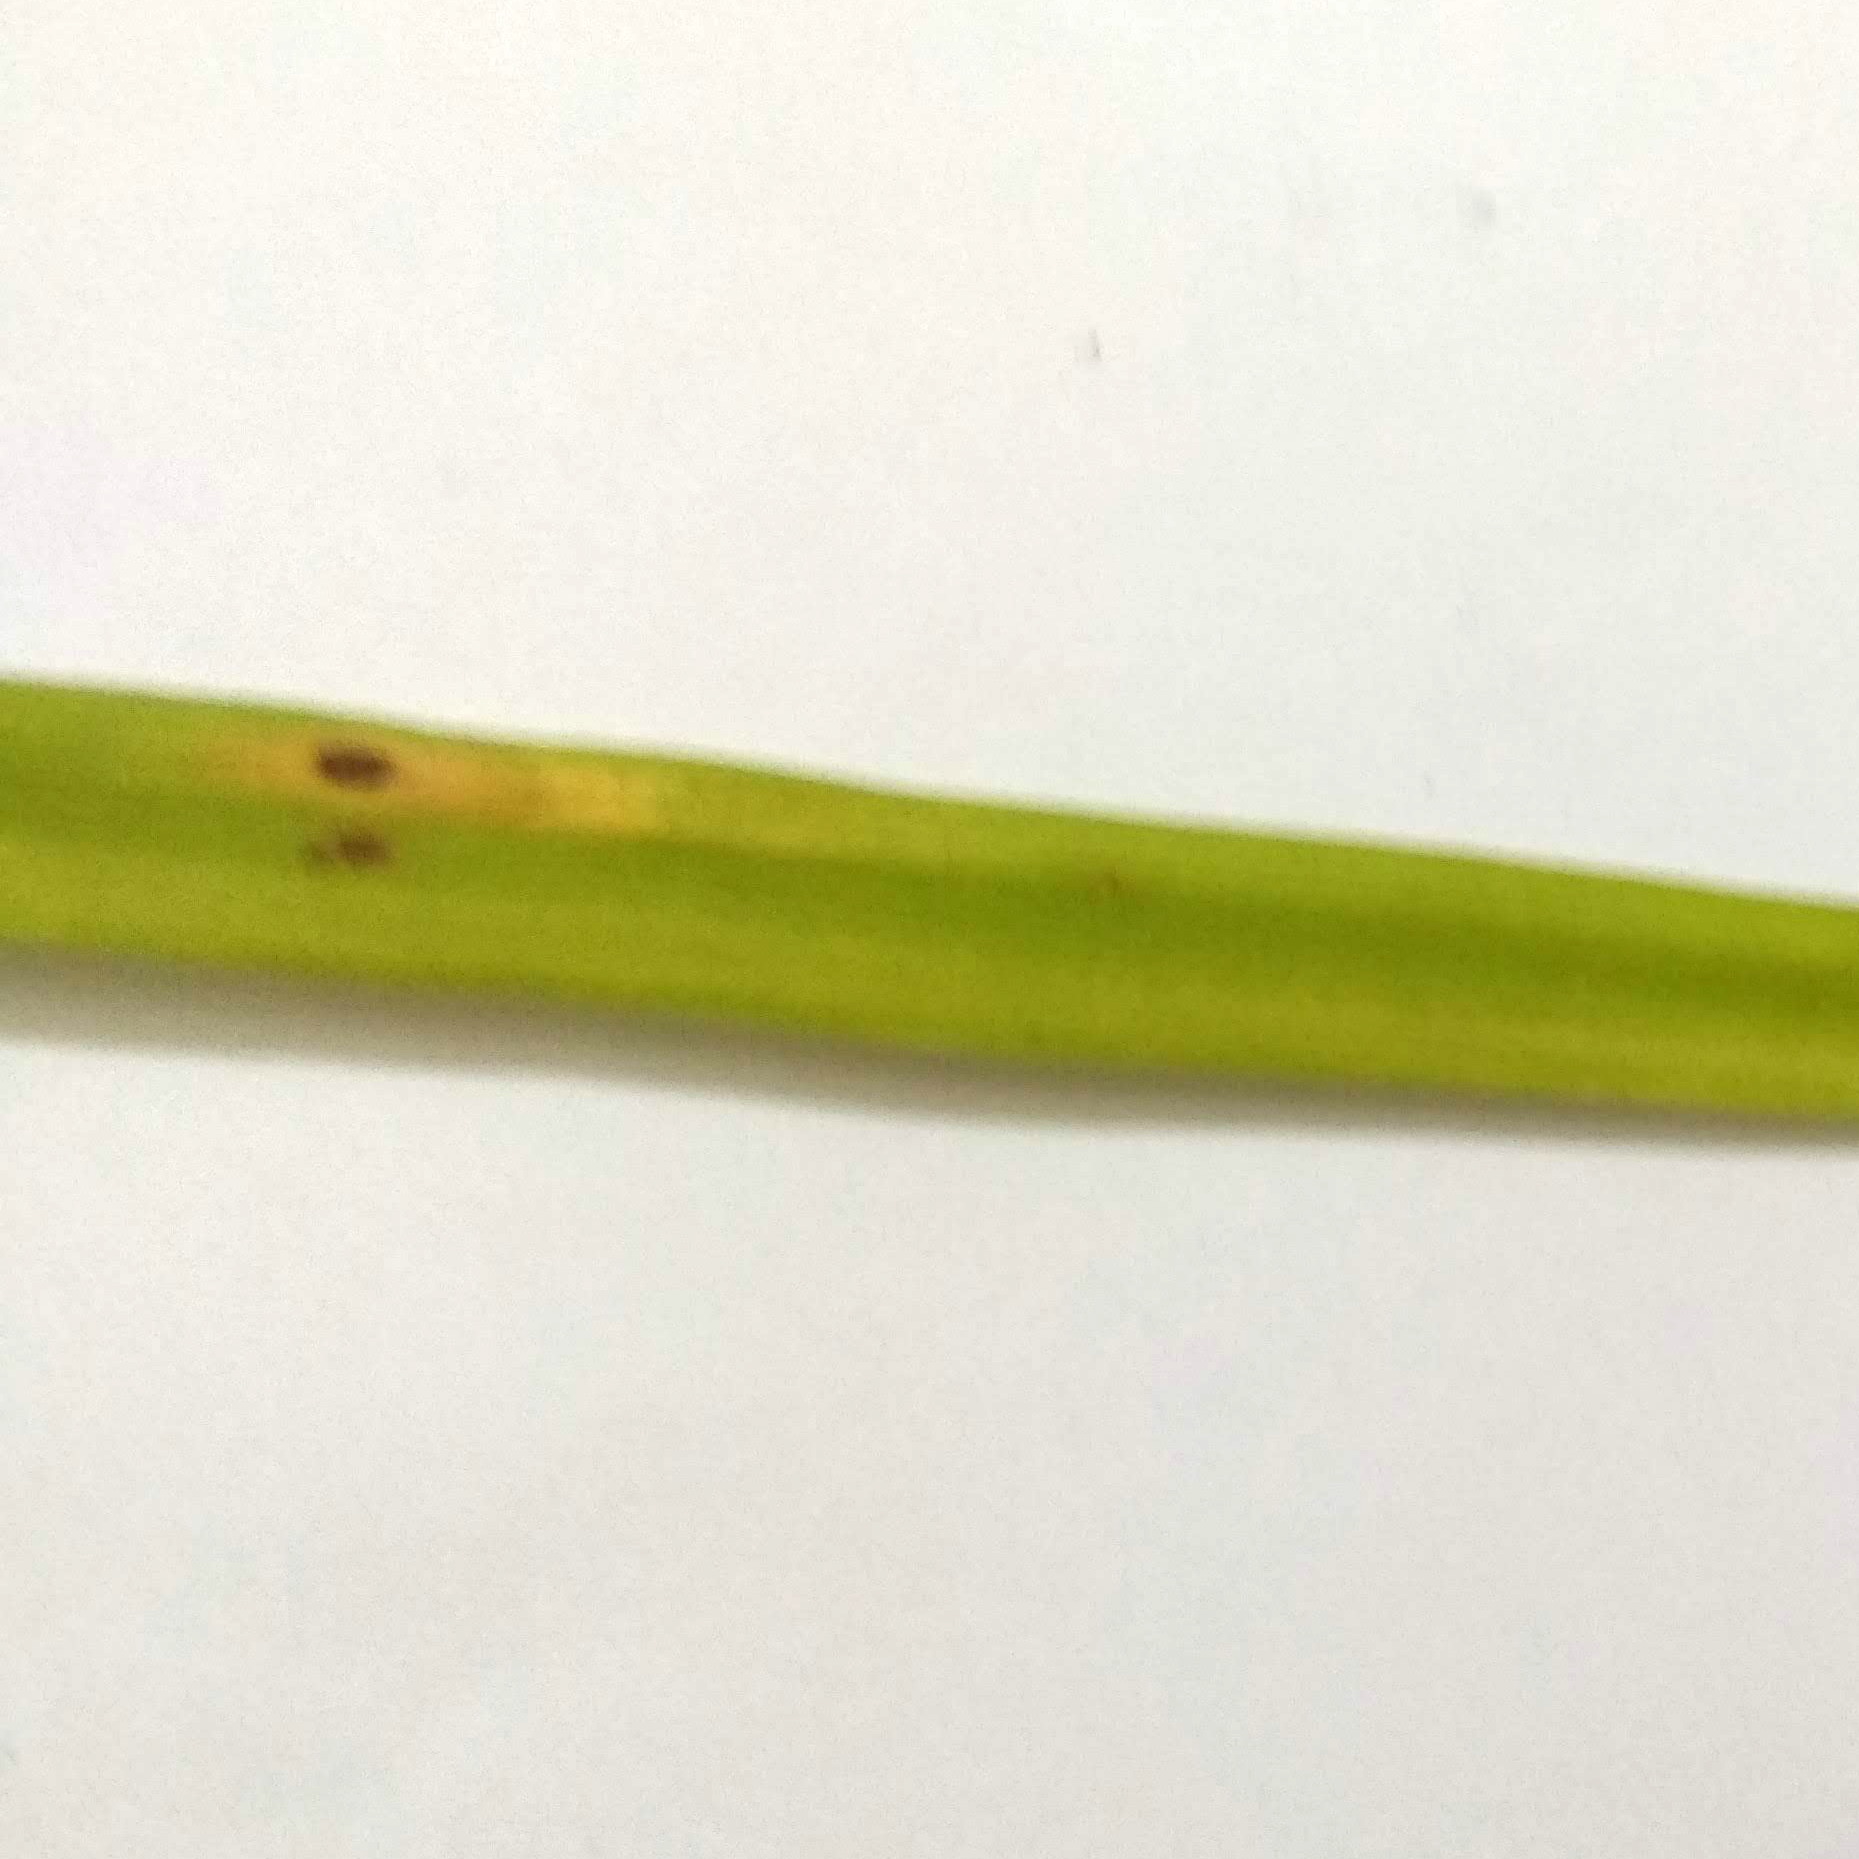brown spot: (255, 713, 453, 814), (293, 826, 409, 882)
